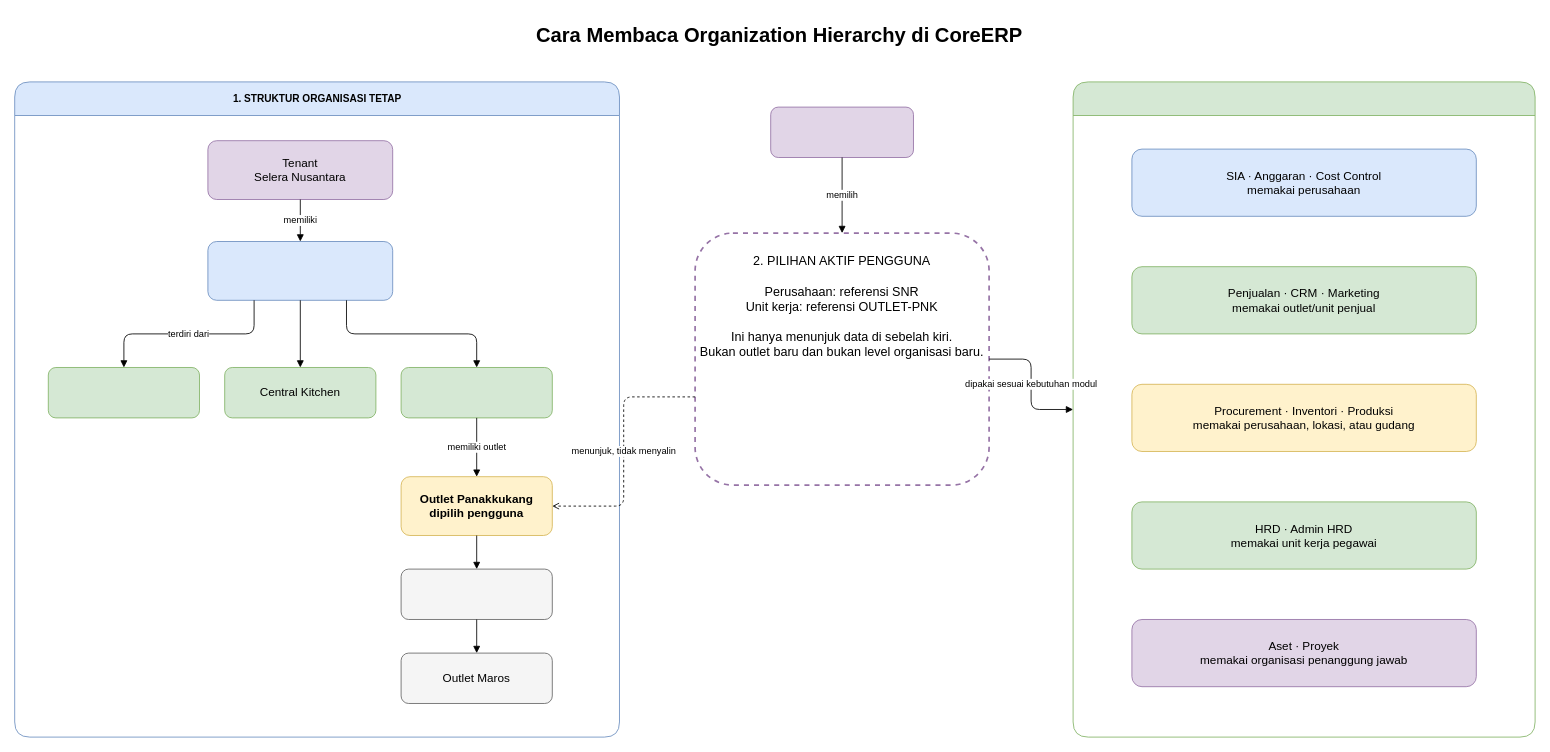
Some shapes in this 1550 by 752 pixel diagram are drawn without their labels. The box of each missing label's shape, as (x1, y1, x2, y2) in pixels:
3. MODUL MEMAKAI BAGIAN YANG RELEVAN: (1072, 81, 1535, 737)
Kantor Pusat: (47, 367, 200, 418)
Legal Entity PT Selera Nusantara: (207, 241, 393, 300)
Outlet Gowa: (400, 568, 552, 620)
Pengguna: (770, 106, 914, 158)
Retail Channel: (400, 367, 552, 418)
